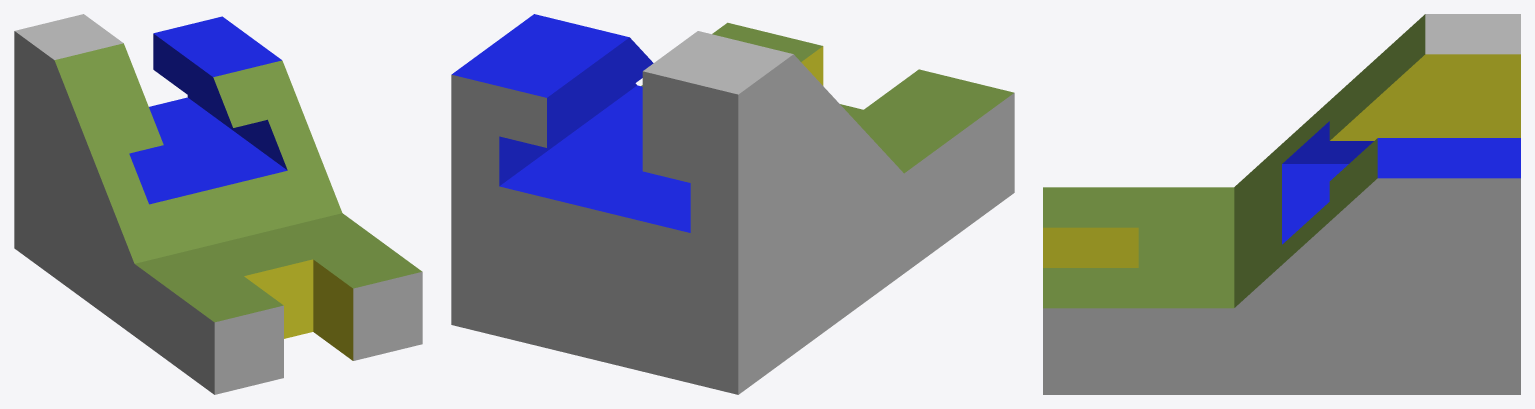
The picture shows the model from 3 angles, left to right: view 1: azimuth 30°, elevation 25°; view 2: azimuth 150°, elevation 25°; view 3: azimuth 270°, elevation 25°; orthographic projection. The views are drawn at different scales.
Parts seen in each view (by area): view 1: Solid1; view 2: Solid1; view 3: Solid1.
Boxes of the visible parts, x1,y1,x2,y2 form: Solid1: (14, 14, 422, 394); Solid1: (451, 14, 1014, 394); Solid1: (1043, 14, 1520, 394).
Bounding box in the file's own units: 0.06 × 0.06 × 0.1.
